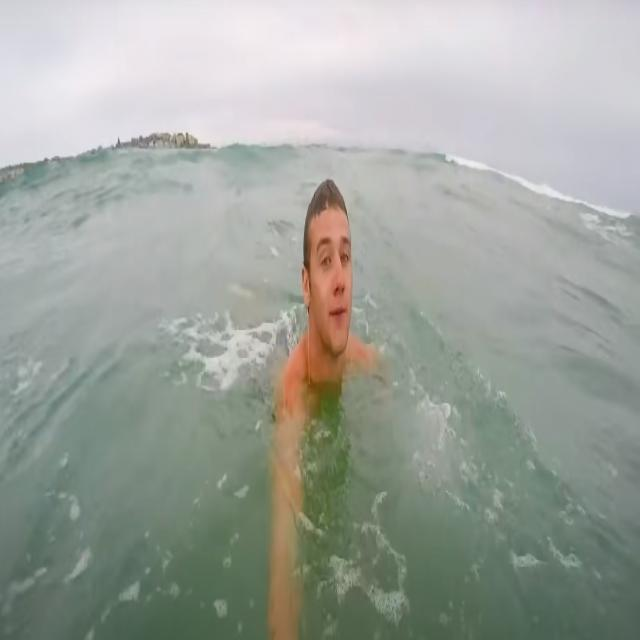Out of Water: (288, 156, 370, 365)
